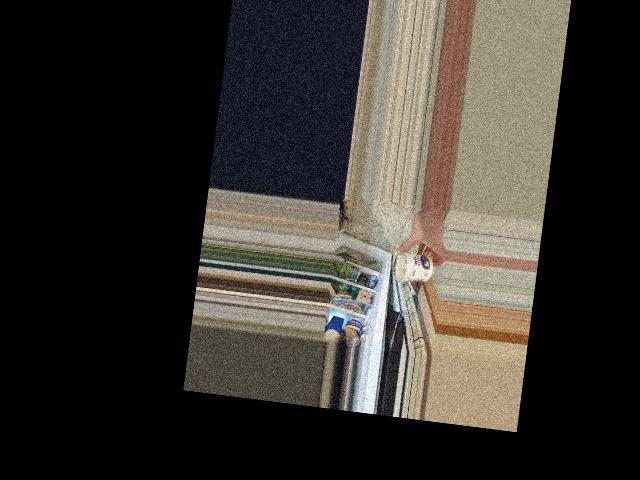cotage: (401, 251, 435, 279)
